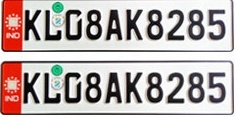character: (104, 9, 123, 41), (208, 71, 227, 103), (125, 8, 143, 41), (104, 71, 122, 104), (23, 9, 41, 41), (44, 9, 62, 41), (65, 9, 83, 41), (207, 8, 225, 40), (43, 72, 61, 104), (124, 71, 142, 103), (167, 72, 185, 104), (23, 71, 40, 104), (146, 8, 163, 40), (167, 9, 184, 41), (187, 8, 204, 40), (85, 72, 102, 104), (85, 9, 102, 40), (188, 72, 205, 103), (147, 71, 163, 103), (64, 72, 81, 102)
